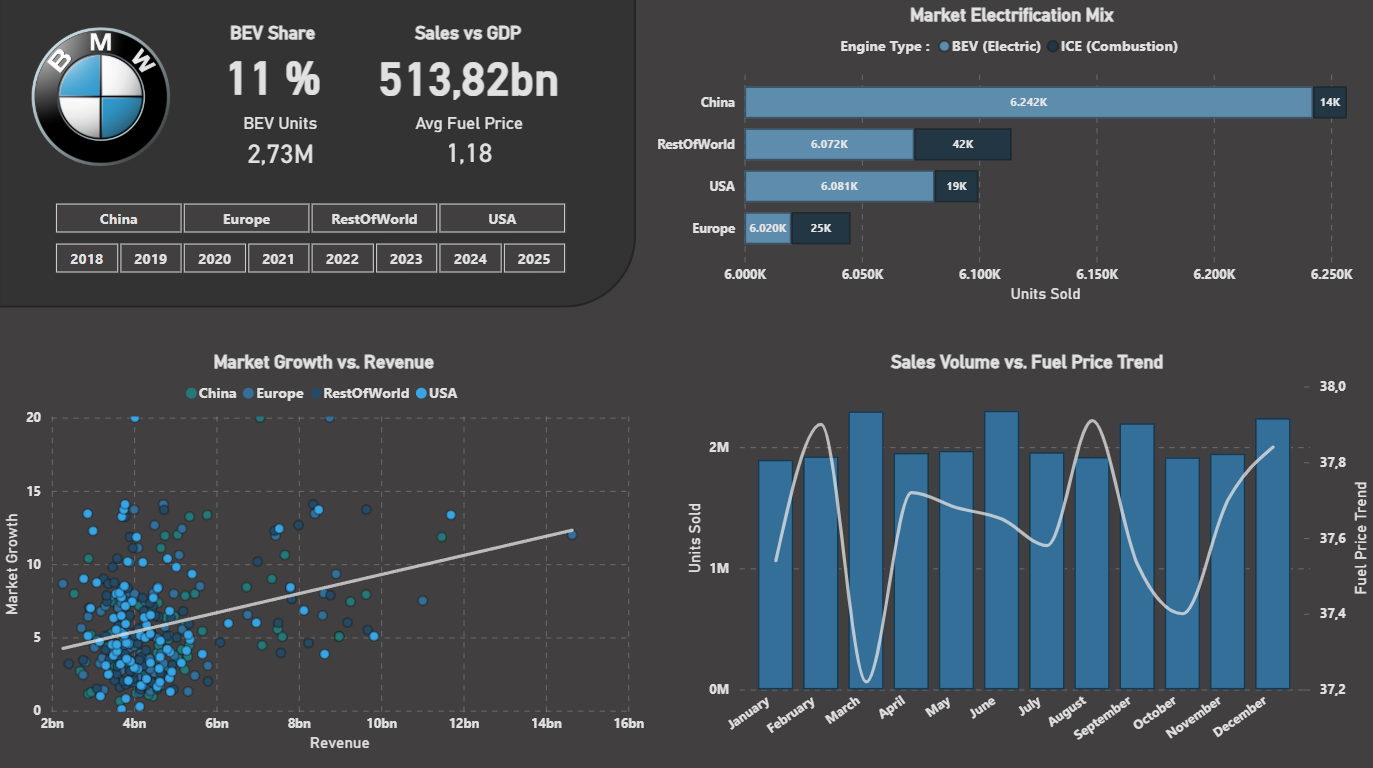

Layout of this report page (visuals, bound fields, positions):
{"tool":"powerbi","page":{"name":"Strategic Market Insights","canvas":[1280,720],"ordinal":1},"visuals":[{"type":"shape","box":[0,0,594,290.2],"z":0},{"type":"scatterChart","title":"Market Growth vs. Revenue","fields":{"X":["bmw_measures.Total Revenue"],"Y":["Sum(bmw_project dim_market_trends.gdp_growth)"],"Category":["bmw_project dim_market_trends.gdp_growth"],"Series":["bmw_project dim_region.region"]},"box":[0,330.1,606.6,378.1],"z":1000},{"type":"barChart","title":"Market Electrification Mix","fields":{"Category":["bmw_project dim_region.region"],"Y":["Sum(bmw_project fact_sales.units_sold)"],"Series":["bmw_project fact_sales.Engine Type"]},"box":[606.6,7.3,673.8,282.9],"z":2000},{"type":"lineClusteredColumnComboChart","title":"Sales Volume vs. Fuel Price Trend","fields":{"Y":["Sum(bmw_project fact_sales.units_sold)"],"Y2":["Sum(bmw_project dim_market_trends.fuel_price_index)"],"Category":["bmw_project dim_market_trends.sales_date.Variation.Date Hierarchy.Month"]},"box":[640.2,330.1,640.2,378.1],"z":3000},{"type":"card","title":"BEV Share","fields":{"Values":["bmw_measures.% BEV Share"]},"box":[195.9,24.5,120.6,77.1],"z":4000},{"type":"card","title":"Sales vs GDP","fields":{"Values":["bmw_measures.Sales vs GDP Index"]},"box":[345.5,24.5,184.1,78],"z":5000},{"type":"card","title":"BEV Units","fields":{"Values":["bmw_measures.BEV Units"]},"box":[202.2,108.8,121.5,56.2],"z":6000},{"type":"card","title":"Avg Fuel Price","fields":{"Values":["Avg(bmw_project dim_market_trends.fuel_price_index)"]},"box":[367.3,108.8,141.5,54.4],"z":7000},{"type":"slicer","title":"Region","fields":{"Values":["bmw_project dim_market_trends.region"]},"box":[28.1,185.9,524.1,37.2],"z":8000},{"type":"slicer","title":"Region","fields":{"Values":["bmw_project dim_market_trends.sales_date.Variation.Date Hierarchy.Year"]},"box":[28.1,223.1,524.1,39],"z":9000},{"type":"image","box":[23.6,24.5,145.1,138.7],"z":10000}]}

Visuals, with their boxes in screenshot pixels (x1, y1, x2, y2), scaled from the page's 1280x720 canvas onto the 1373x768 screenshot:
shape: box=[0, 0, 637, 310]
"Market Growth vs. Revenue" scatterChart: box=[0, 352, 651, 755]
"Market Electrification Mix" barChart: box=[651, 8, 1372, 310]
"Sales Volume vs. Fuel Price Trend" lineClusteredColumnComboChart: box=[687, 352, 1372, 755]
"BEV Share" card: box=[210, 26, 339, 108]
"Sales vs GDP" card: box=[371, 26, 568, 109]
"BEV Units" card: box=[217, 116, 347, 176]
"Avg Fuel Price" card: box=[394, 116, 546, 174]
"Region" slicer: box=[30, 198, 592, 238]
"Region" slicer: box=[30, 238, 592, 280]
image: box=[25, 26, 181, 174]
